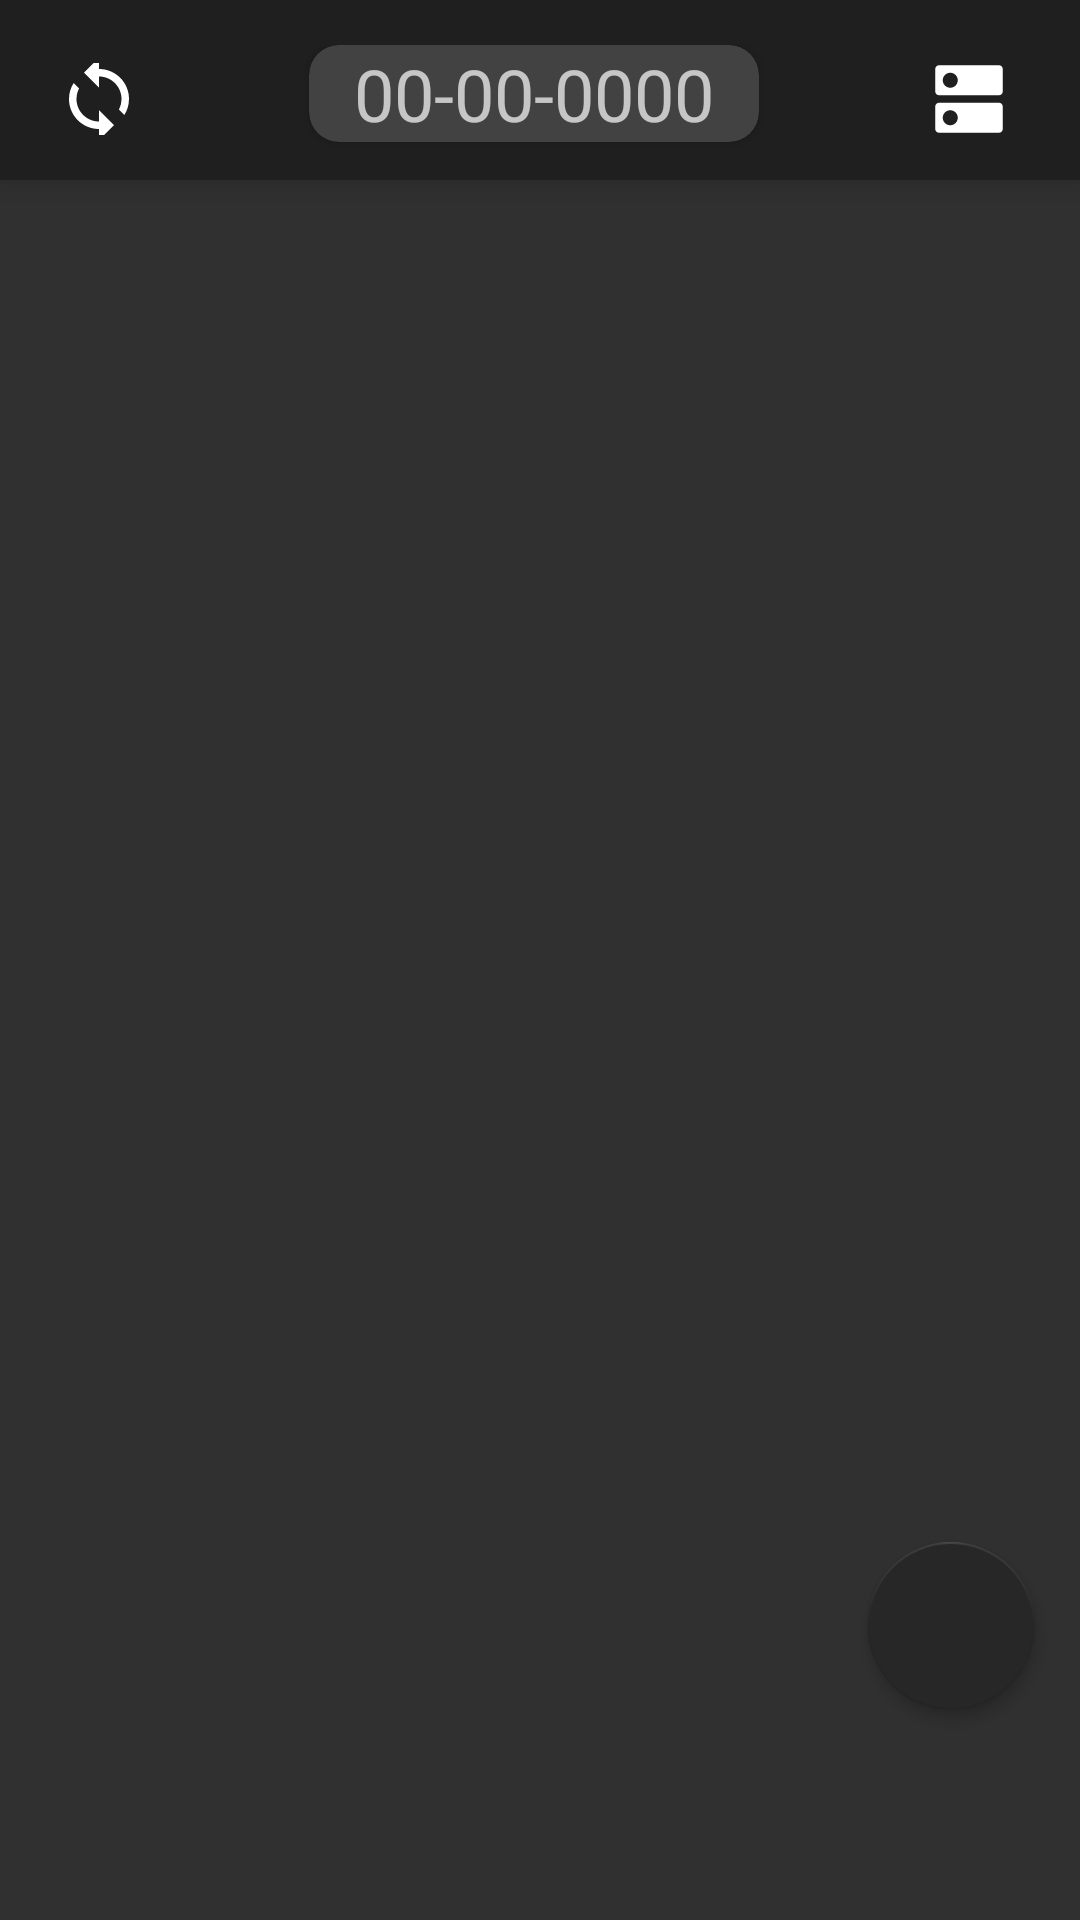

Icon click points for this 1080px x 1920px phone screenshot, format (x=x, y=y):
refresh: (x=99, y=99)
